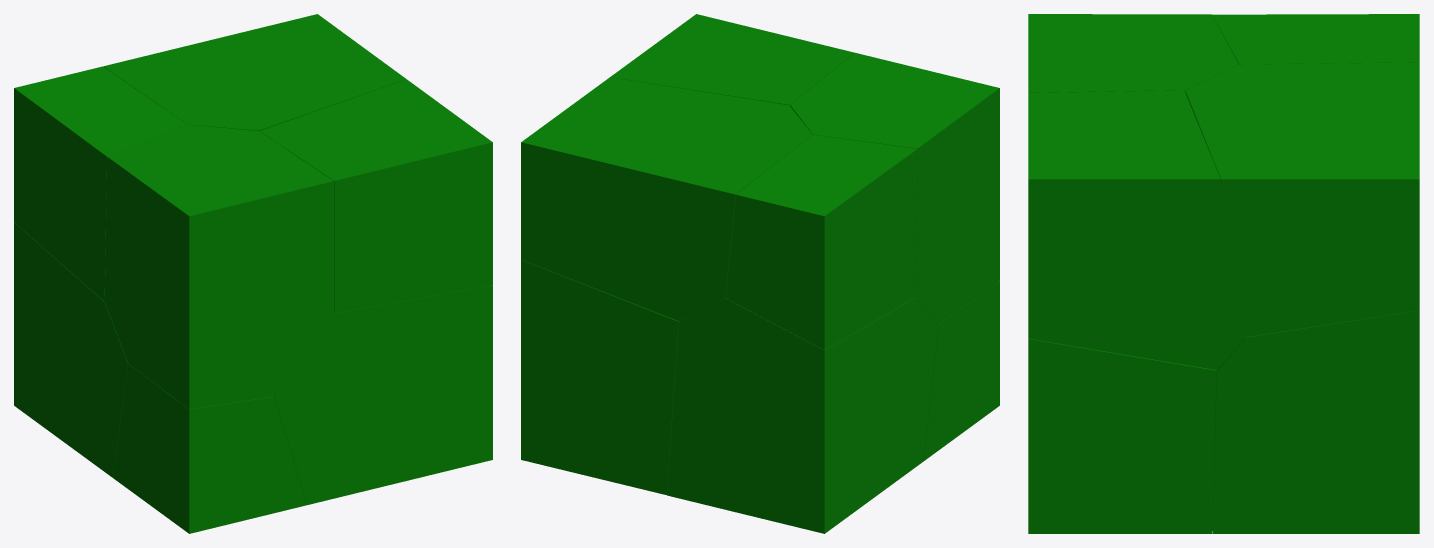
File: cubeBreak.fbx
The picture shows the model from 3 angles, left to right: view 1: azimuth 30°, elevation 25°; view 2: azimuth 150°, elevation 25°; view 3: azimuth 270°, elevation 25°; orthographic projection. The views are drawn at different scales.
Parts seen in each view (by area): view 1: Cube_cell.001, Cube_cell.004, Cube_cell.005, Cube_cell, Cube_cell.003, Cube_cell.007, Cube_cell.002; view 2: Cube_cell.002, Cube_cell.007, Cube_cell.003, Cube_cell.006, Cube_cell.001, Cube_cell.005, Cube_cell; view 3: Cube_cell.007, Cube_cell.005, Cube_cell.006, Cube_cell.004, Cube_cell.001, Cube_cell.003.
Boxes of the visible parts, x1,y1,x2,y2 form: Cube_cell.001: (104,124,333,409); Cube_cell.004: (273,285,492,504); Cube_cell.005: (260,79,492,313); Cube_cell: (113,363,307,533); Cube_cell.003: (14,66,187,301); Cube_cell.007: (103,14,405,130); Cube_cell.002: (14,222,128,477); Cube_cell.002: (667,298,938,533); Cube_cell.007: (521,77,812,321); Cube_cell.003: (725,134,917,350); Cube_cell.006: (521,259,680,494); Cube_cell.001: (790,52,999,324); Cube_cell.005: (610,14,854,105); Cube_cell: (923,281,999,461); Cube_cell.007: (1185,62,1419,336); Cube_cell.005: (1028,90,1246,369); Cube_cell.006: (1213,310,1419,533); Cube_cell.004: (1028,338,1216,533); Cube_cell.001: (1028,14,1238,94); Cube_cell.003: (1212,14,1419,64).
Bounding box in the file's own units: 200 × 200 × 200.
